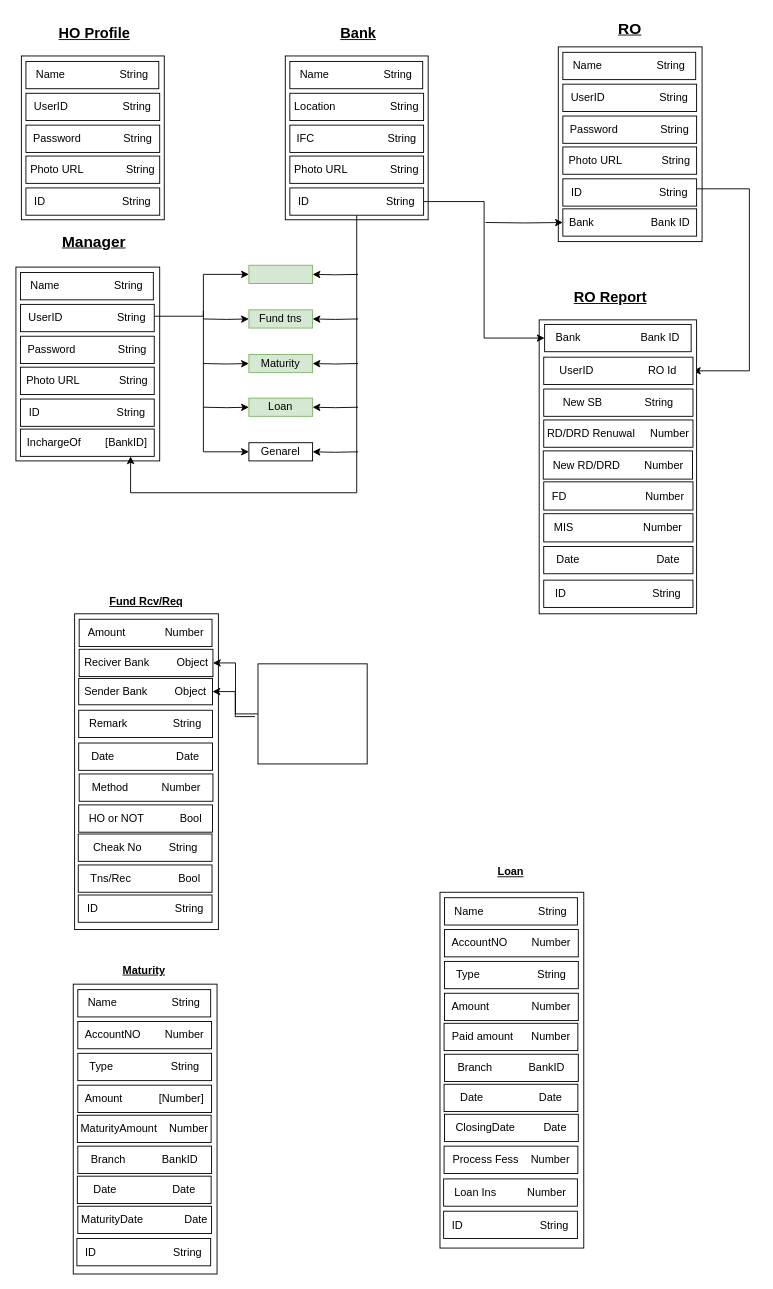
This 773x1289 diagram has some shape labels left out. Here are the shapes that lost their labels. From the top down, the box of each, then its label:
(248, 264, 313, 283): Fund rcv
(257, 663, 367, 764): { bankname : , account no: Number, IFSC no: , }
